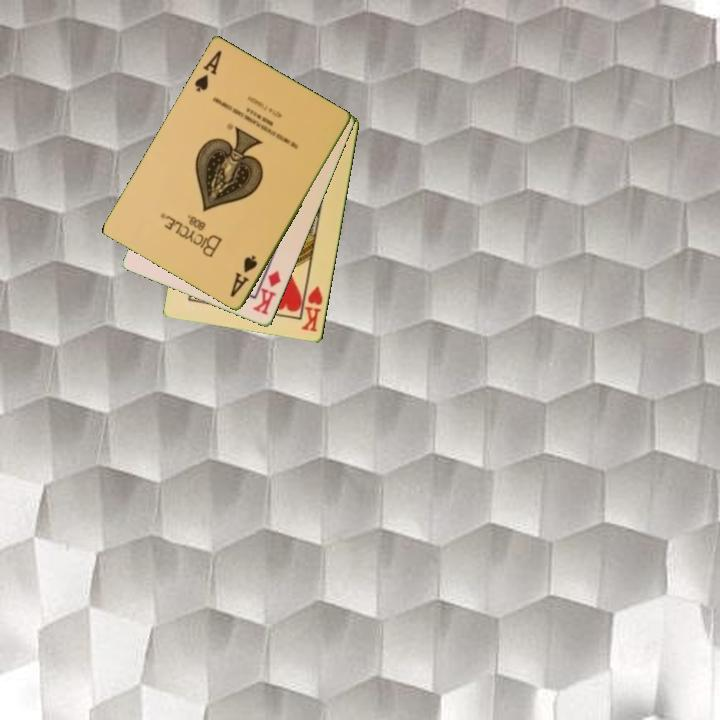As: (227, 252, 261, 300), (191, 47, 225, 95)
Kd: (249, 267, 284, 318)
Kh: (298, 279, 326, 335)
